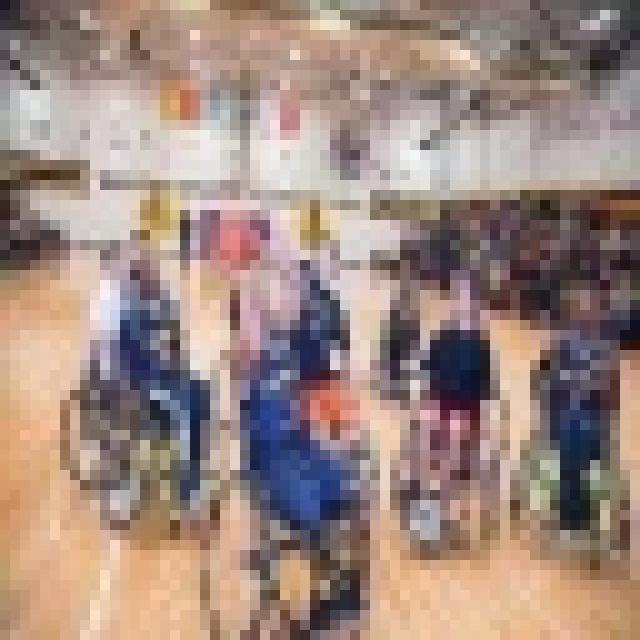wheelchairs: (196, 453, 369, 640), (52, 360, 212, 537), (385, 402, 514, 549), (521, 432, 637, 574), (367, 341, 448, 394)
